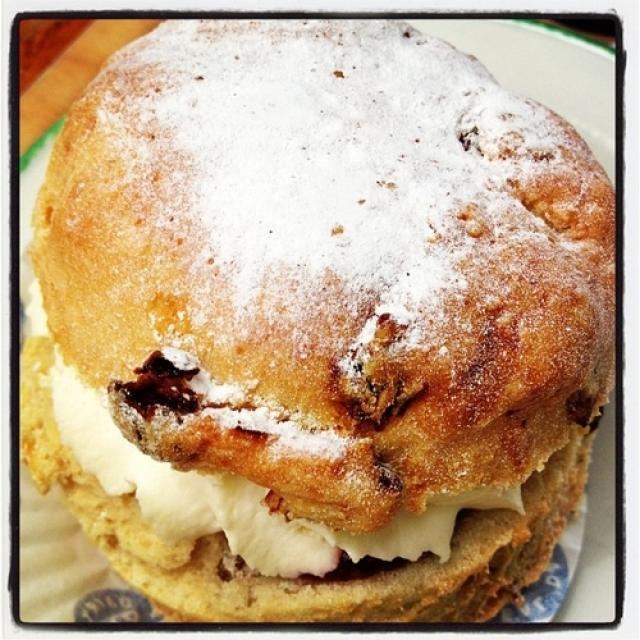面包点心: (33, 32, 599, 618)
